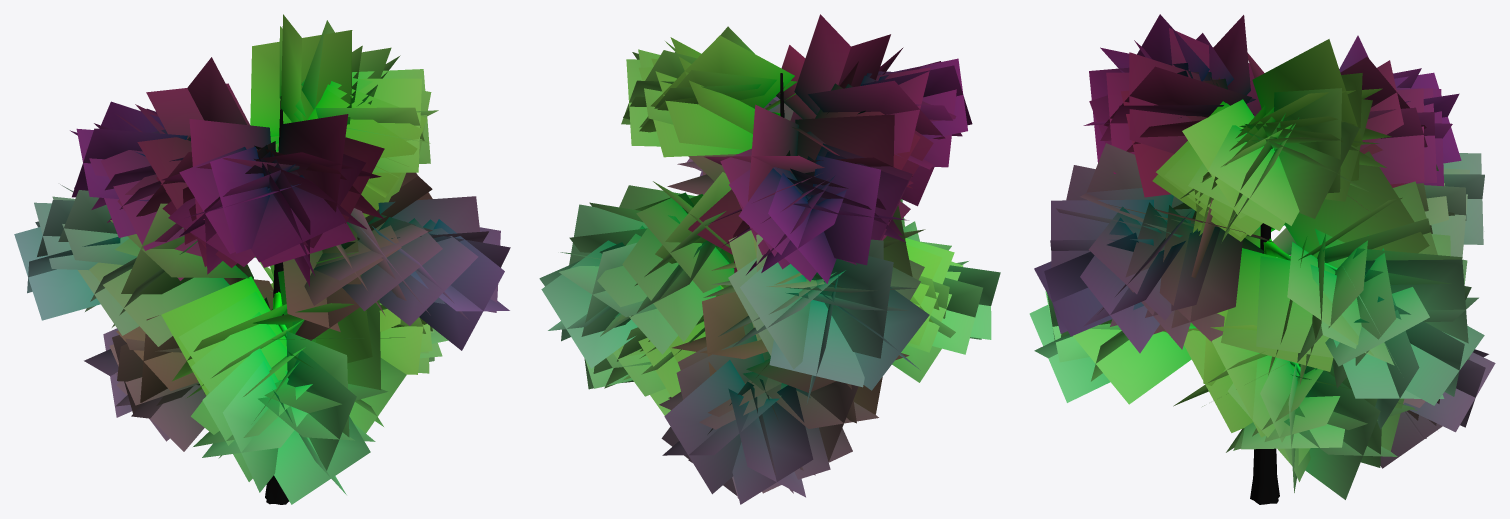
File: M_P14_Tree_1.fbx
The picture shows the model from 3 angles, left to right: view 1: azimuth 30°, elevation 25°; view 2: azimuth 150°, elevation 25°; view 3: azimuth 270°, elevation 25°; orthographic projection. The views are drawn at different scales.
Parts seen in each view (by area): view 1: Tree_1; view 2: Tree_1; view 3: Tree_1.
Boxes of the visible parts, bbox=[...] form: Tree_1: bbox=[14, 14, 510, 504]; Tree_1: bbox=[539, 14, 1000, 504]; Tree_1: bbox=[1029, 14, 1495, 504].
Size of the model in its own units: 394 by 452 by 400.
